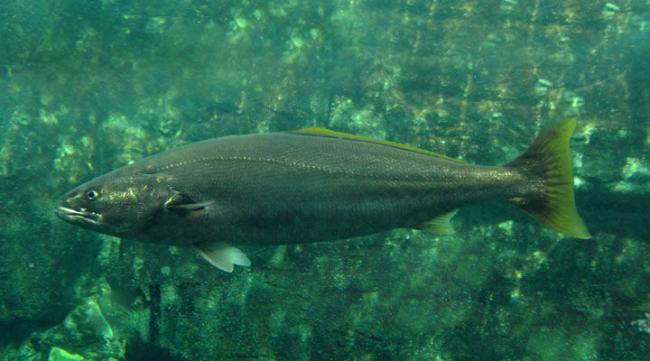fish: (55, 114, 591, 243)
